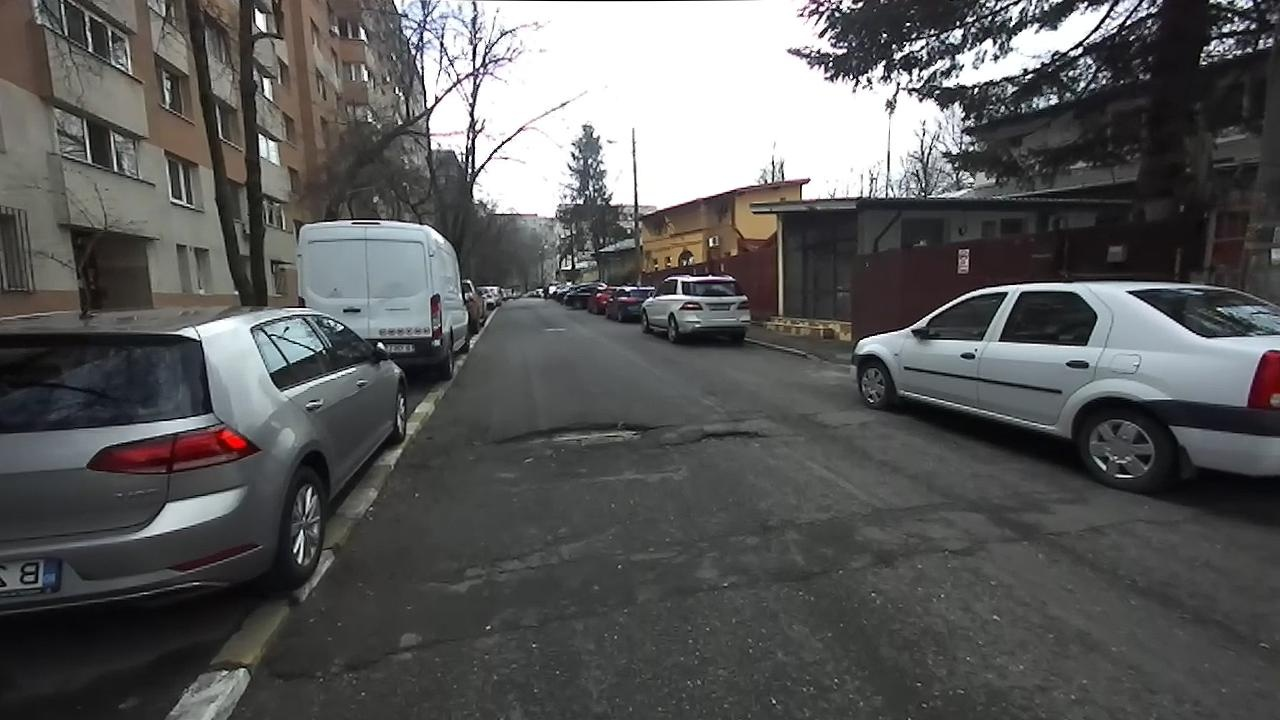pothole: (276, 635, 441, 693), (492, 418, 673, 452), (686, 426, 771, 449)
